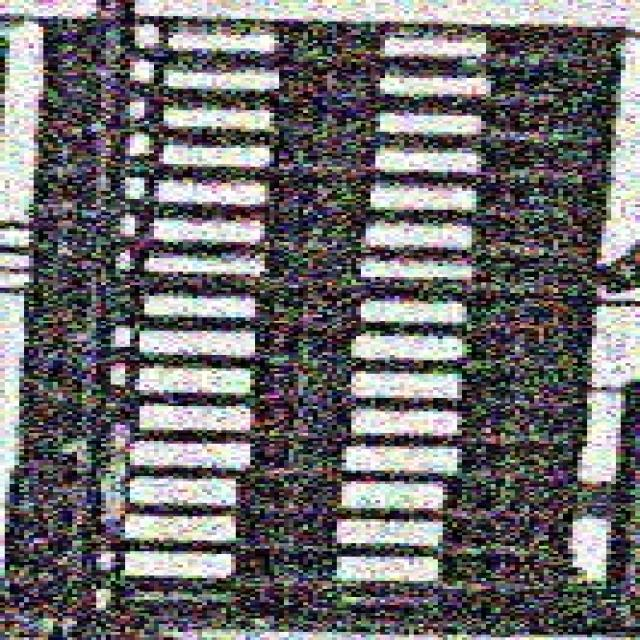igps: (14, 0, 635, 65), (0, 584, 607, 640), (29, 54, 636, 102), (21, 131, 628, 178), (16, 210, 616, 253), (14, 280, 609, 323), (26, 98, 628, 140), (17, 324, 602, 365), (12, 362, 606, 402), (0, 510, 584, 550), (0, 546, 595, 585), (10, 401, 599, 440), (0, 473, 595, 511), (11, 437, 596, 475), (11, 249, 613, 284), (20, 173, 626, 206)
